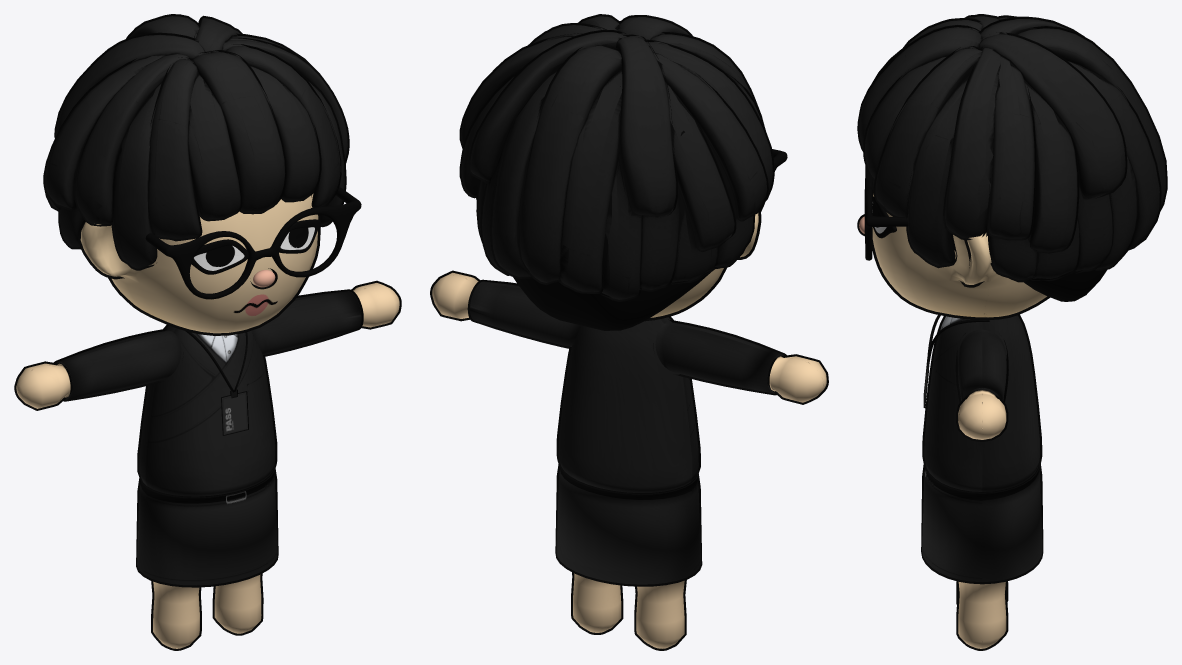
Rendered from PNJ4.fbx.
The picture shows the model from 3 angles, left to right: view 1: azimuth 30°, elevation 25°; view 2: azimuth 150°, elevation 25°; view 3: azimuth 270°, elevation 25°; orthographic projection. The views are drawn at different scales.
Parts seen in each view (by area): view 1: Hair, Suit, Head, Glasses, Id Card; view 2: Hair, Suit, Head; view 3: Hair, Suit, Head, Glasses, Id Card.
Boxes of the visible parts, bbox=[...] form: Hair: bbox=[43, 14, 349, 270]; Suit: bbox=[14, 280, 401, 650]; Head: bbox=[78, 193, 320, 335]; Glasses: bbox=[145, 187, 361, 299]; Id Card: bbox=[185, 331, 248, 435]; Hair: bbox=[459, 14, 774, 330]; Suit: bbox=[430, 270, 828, 650]; Head: bbox=[645, 209, 761, 321]; Hair: bbox=[857, 14, 1167, 301]; Suit: bbox=[921, 314, 1043, 650]; Head: bbox=[872, 179, 1049, 320]; Glasses: bbox=[864, 165, 908, 260]; Id Card: bbox=[923, 315, 989, 407].
Size of the model in its own units: 248 by 371 by 173.
